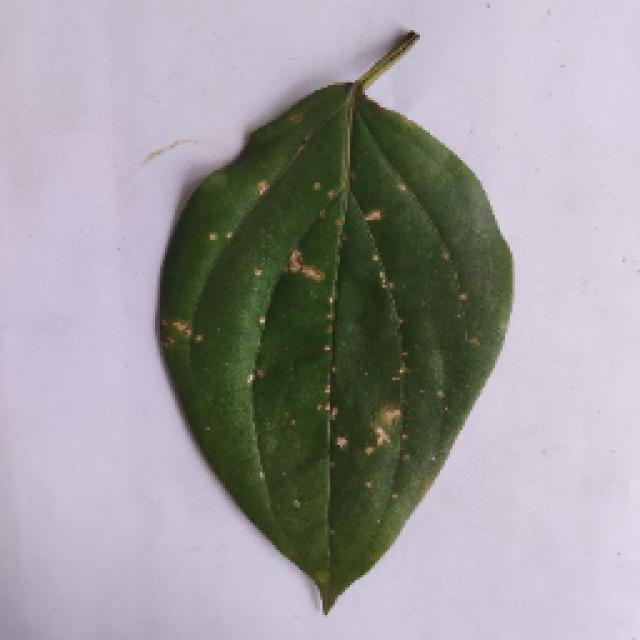pollu-disease: (152, 42, 510, 612)
